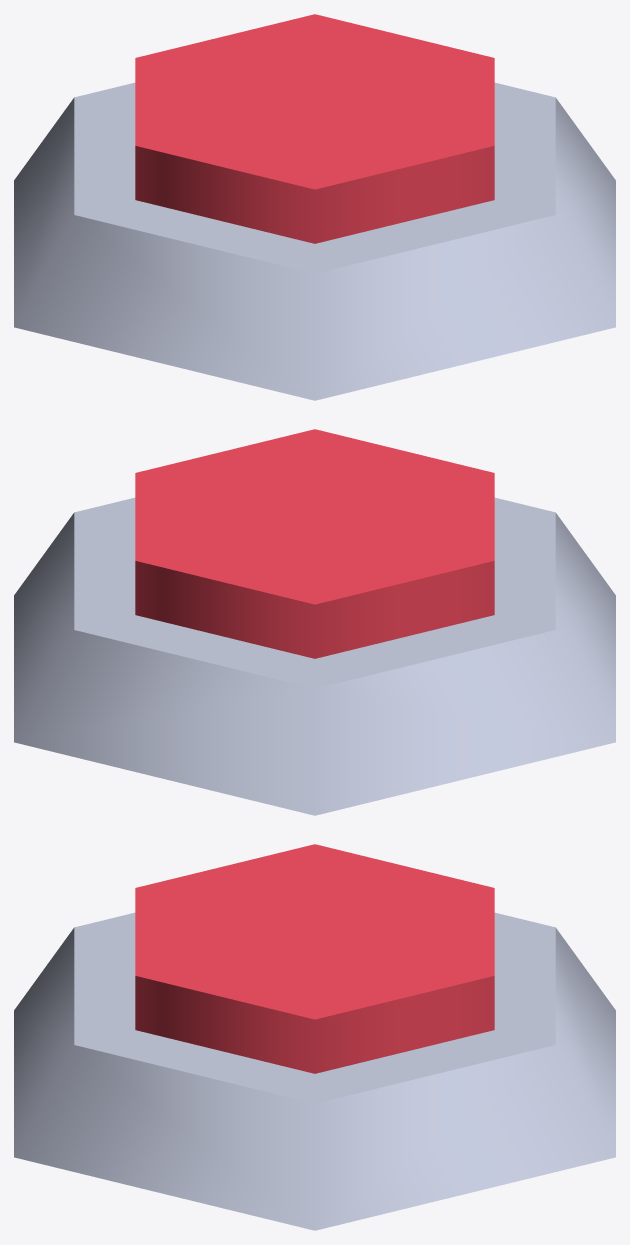
The model's file is buttonRound.fbx.
3 renders of one model, top to bottom at view 1: azimuth 30°, elevation 25°; view 2: azimuth 150°, elevation 25°; view 3: azimuth 270°, elevation 25°, orthographic.
Parts seen in each view (by area): view 1: buttonRound, knob; view 2: buttonRound, knob; view 3: buttonRound, knob.
Boxes of the visible parts, x1=… form: buttonRound: x1=14, y1=82, x2=615, y2=400; knob: x1=135, y1=14, x2=494, y2=243; buttonRound: x1=14, y1=497, x2=615, y2=815; knob: x1=135, y1=429, x2=494, y2=658; buttonRound: x1=14, y1=912, x2=615, y2=1230; knob: x1=135, y1=844, x2=494, y2=1073.
Bounding box in the file's own units: 5.8 × 1.4 × 5.02.
